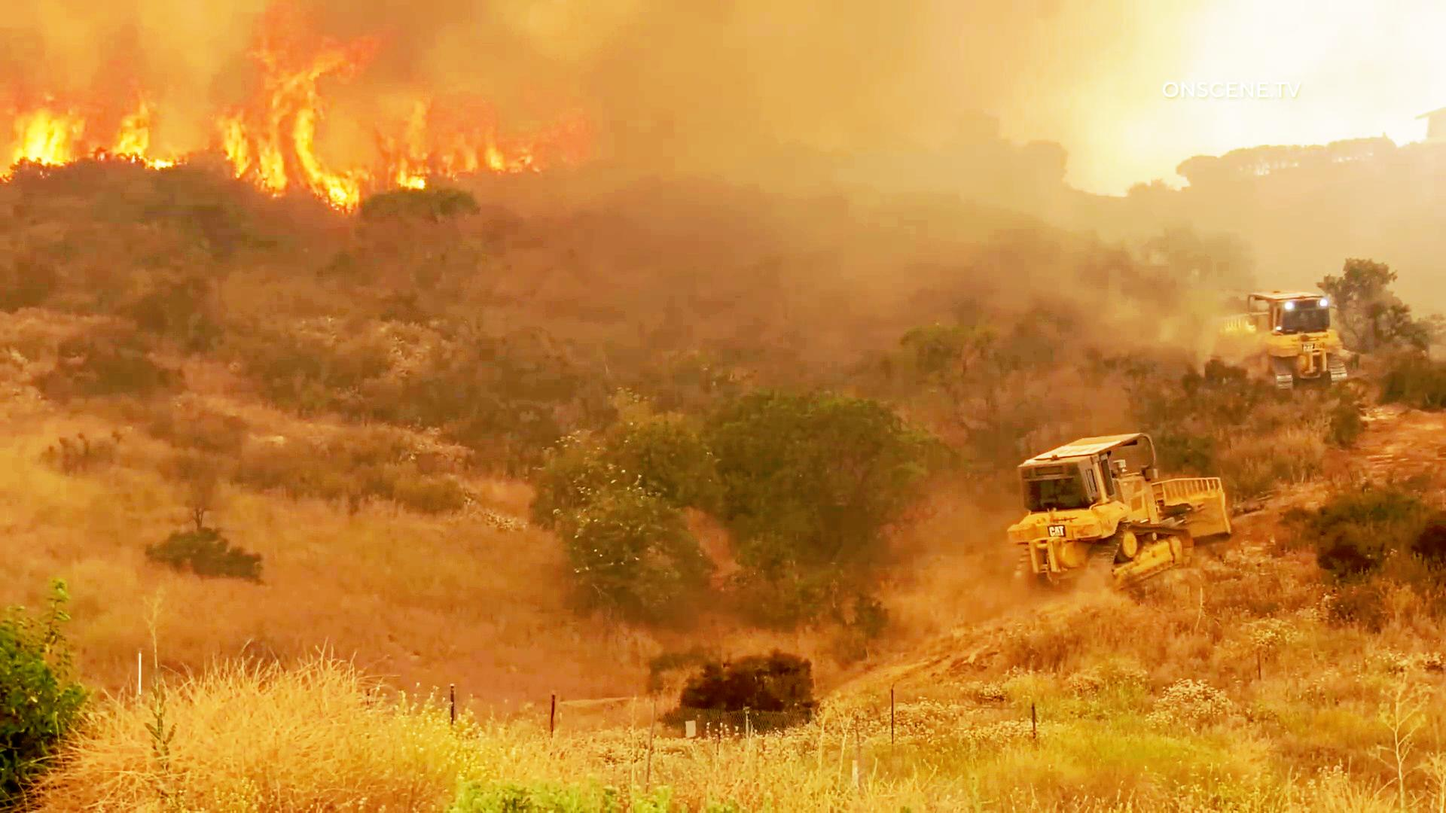fire: (223, 15, 371, 213), (364, 81, 492, 196)
